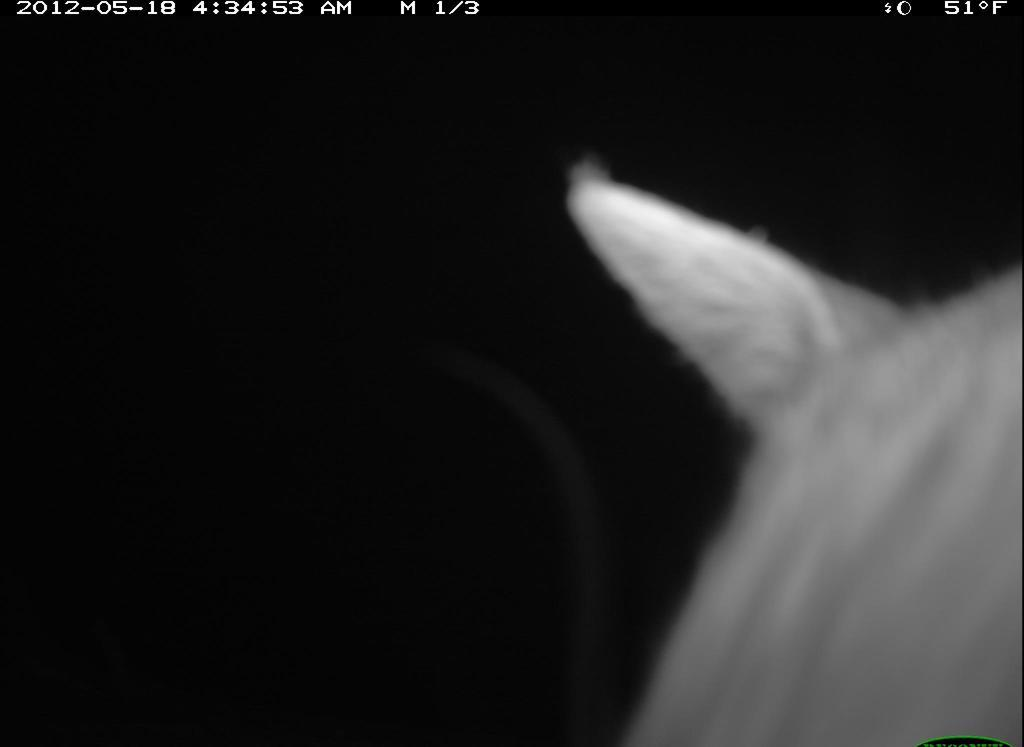bobcat: (545, 139, 1023, 737)
